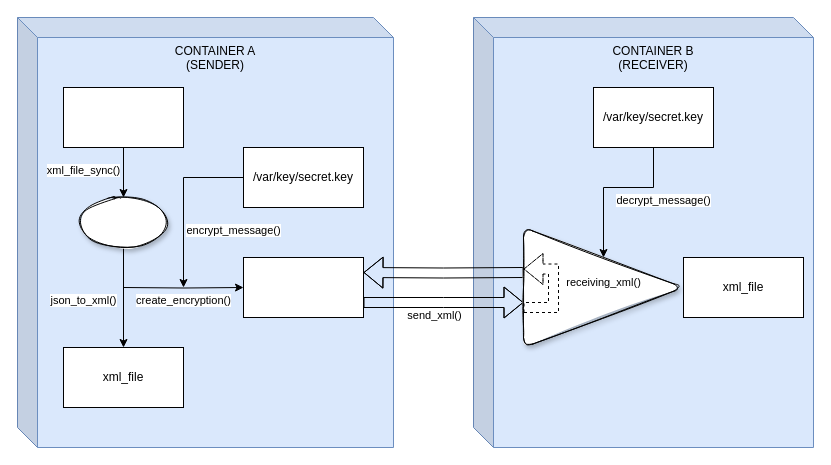
This 831x465 diagram has some shape labels left out. Here are the shapes that lost their labels. From the top down, the centre of each, then its label:
At point (123, 117): "json_file".
At point (124, 223): "JSON to transform".
At point (303, 287): "/tmp/encryption".
